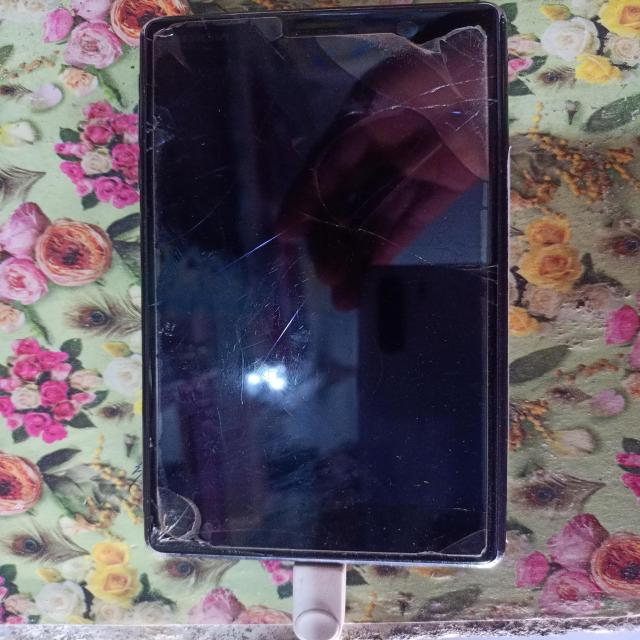mobile: (44, 0, 541, 592)
